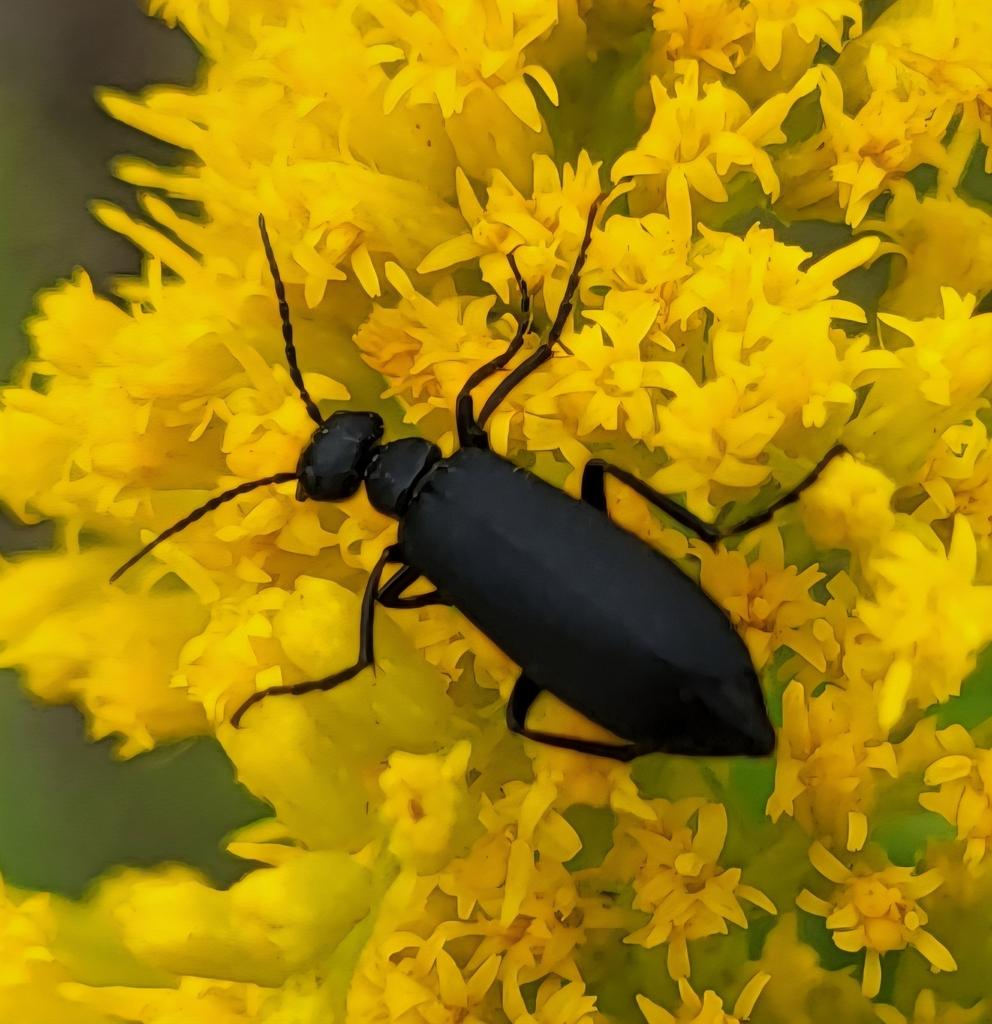blister_beetle: (49, 120, 991, 962)
